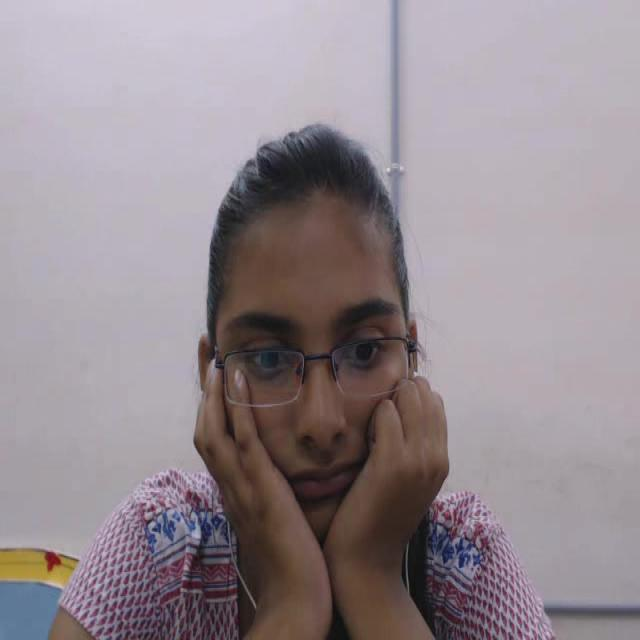Bored: (159, 92, 481, 547)
